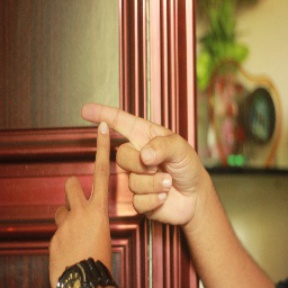T: (49, 98, 174, 231)
